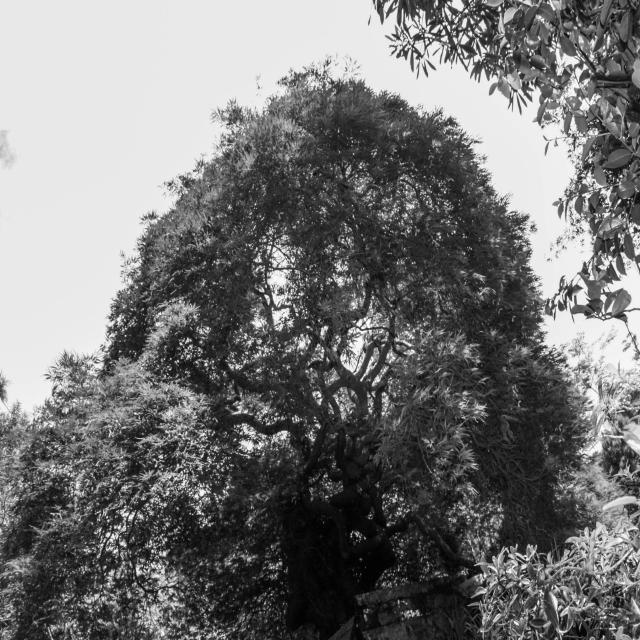Dissectum syn Atropurpurea: (8, 78, 630, 636)
